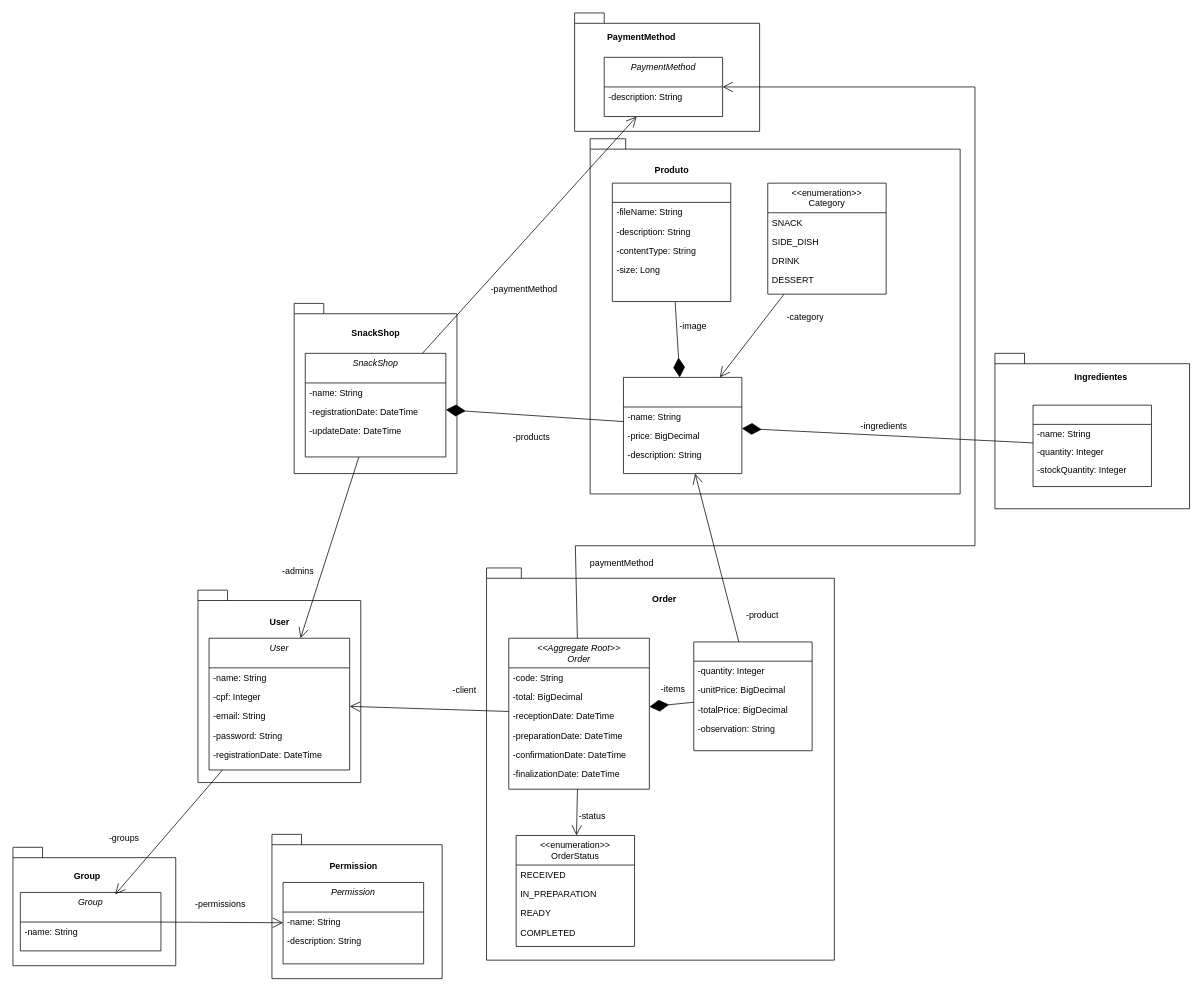
The diagram is 1203 pixels wide and 992 high, and some of its shapes have lost their labels. The shapes that lost their labels are listed below. From the top down, each one's box as (x1, y1, x2, y2) in pixels, then its label:
(612, 182, 731, 302): ProductImage
(623, 377, 742, 474): Product
(1032, 404, 1151, 487): Ingredients
(693, 641, 812, 751): OrderItem
